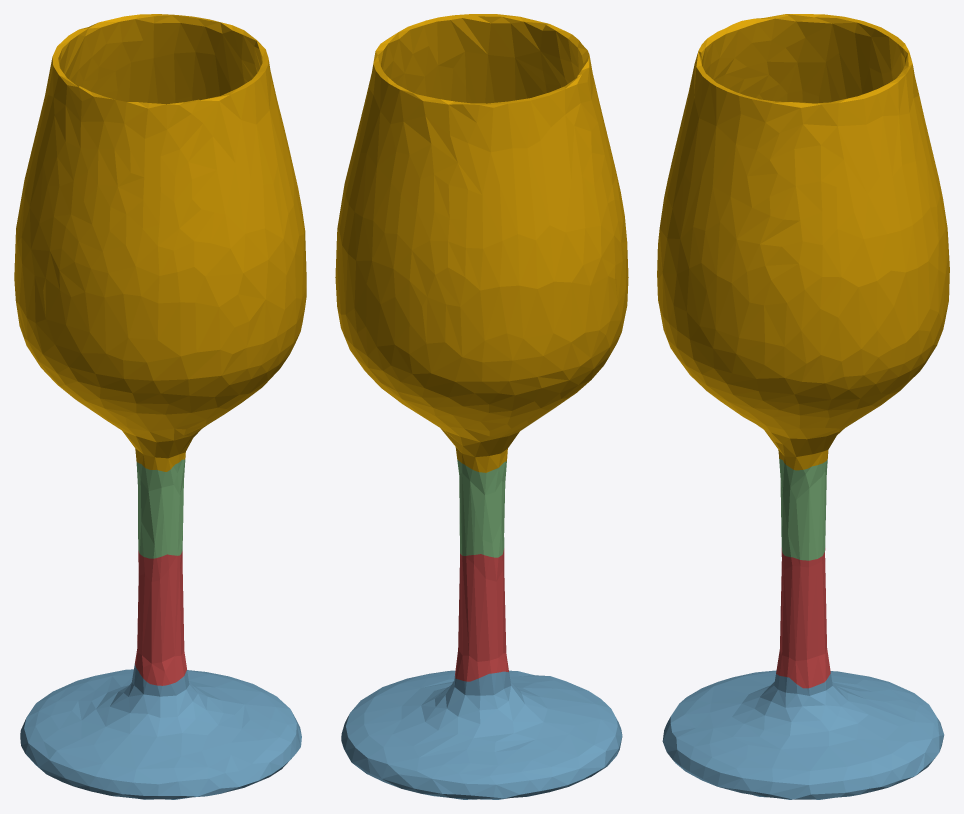
Rendered from fractured_40_4pcs.glb.
3 renders of one model, left to right at view 1: azimuth 30°, elevation 25°; view 2: azimuth 150°, elevation 25°; view 3: azimuth 270°, elevation 25°, orthographic.
Parts seen in each view (by area): view 1: piece_0.obj, piece_2.obj, piece_1.obj, piece_3.obj; view 2: piece_0.obj, piece_2.obj, piece_1.obj, piece_3.obj; view 3: piece_0.obj, piece_2.obj, piece_1.obj, piece_3.obj.
Part boxes in pixels (x1=…): piece_0.obj: x1=14, y1=14, x2=306, y2=471; piece_2.obj: x1=20, y1=663, x2=301, y2=799; piece_1.obj: x1=135, y1=550, x2=186, y2=685; piece_3.obj: x1=136, y1=459, x2=185, y2=558; piece_0.obj: x1=335, y1=14, x2=628, y2=472; piece_2.obj: x1=341, y1=670, x2=622, y2=799; piece_1.obj: x1=455, y1=548, x2=508, y2=681; piece_3.obj: x1=457, y1=458, x2=506, y2=557; piece_0.obj: x1=657, y1=14, x2=949, y2=470; piece_2.obj: x1=662, y1=670, x2=944, y2=799; piece_1.obj: x1=776, y1=548, x2=830, y2=688; piece_3.obj: x1=779, y1=458, x2=827, y2=560.
Bounding box in the file's own units: 0.3821 × 1 × 0.3823.
